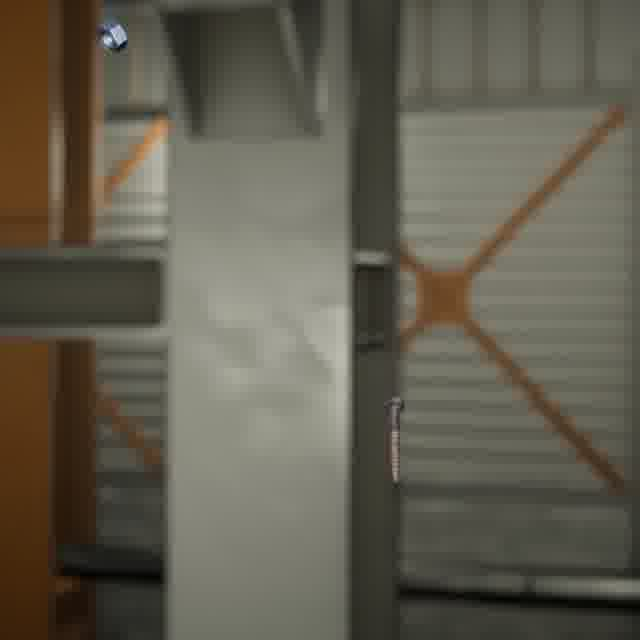bolt: (379, 392, 409, 487)
nut: (92, 14, 132, 57)
